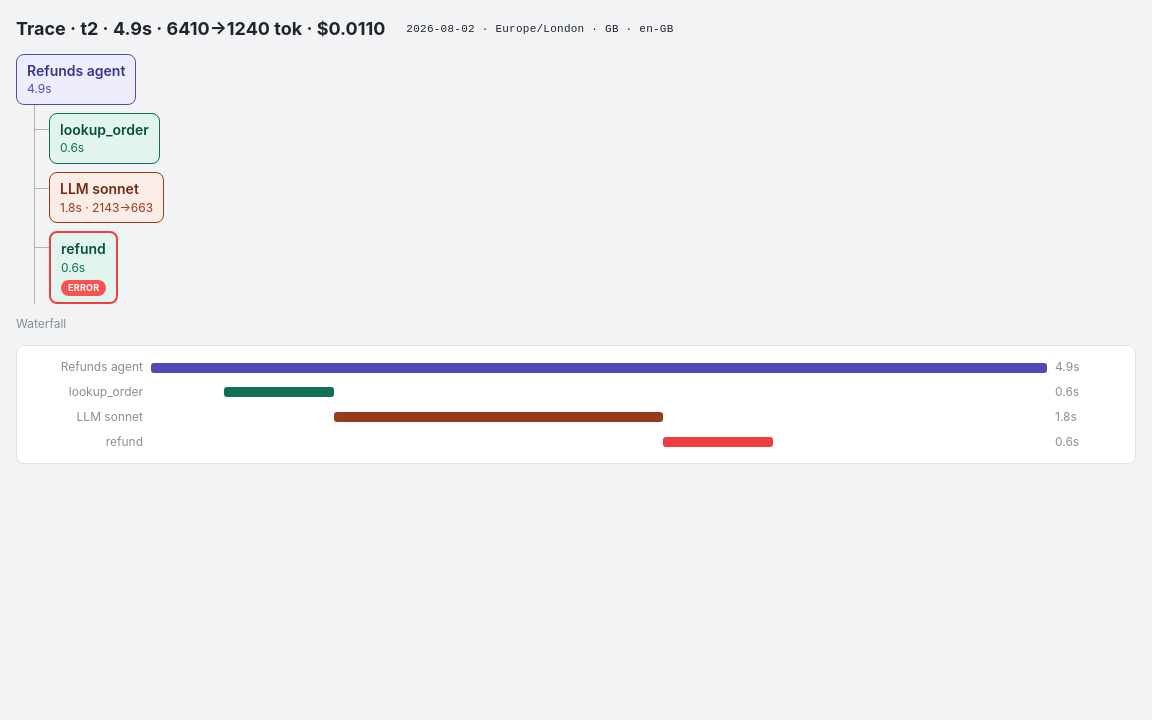
Test: TracePage › error span drawer shows the status/error prominently
What coordinates should you click on to do the following:
click the button with aria-label "Open refund"
I would click on:
 (84, 268)
Its box is [49,231,118,304].
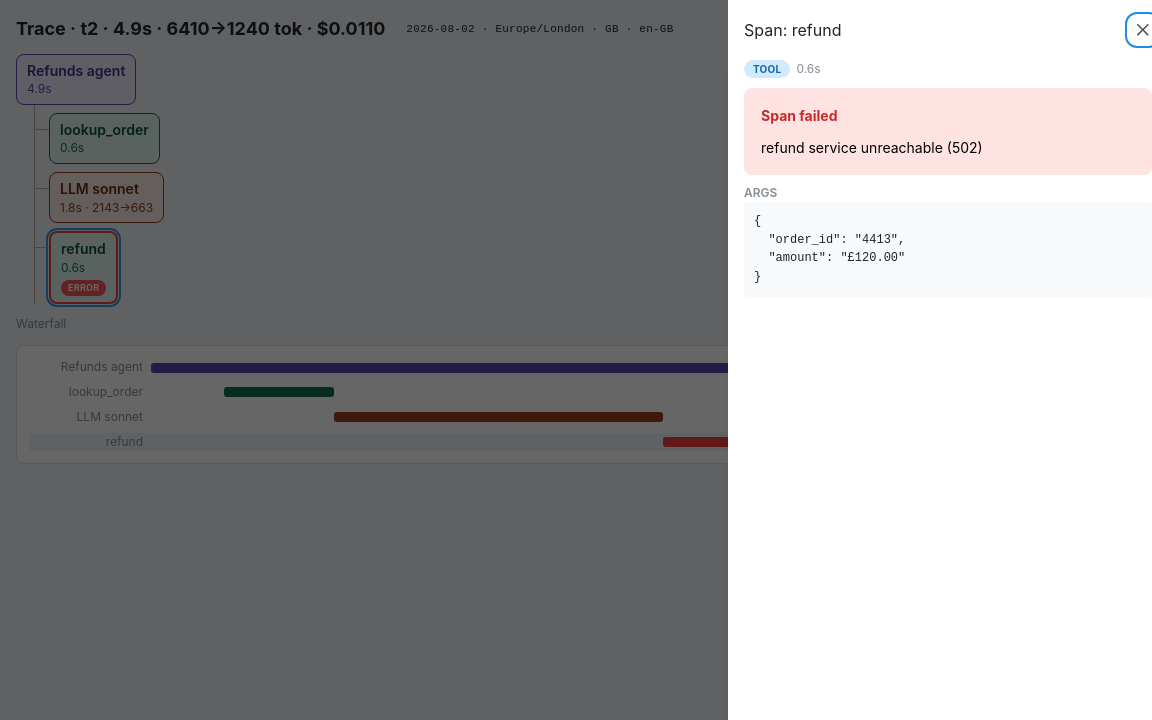
Check: the message with test id "span-error" shows "refund service unreachable (502)", box [761,139,983,156]
